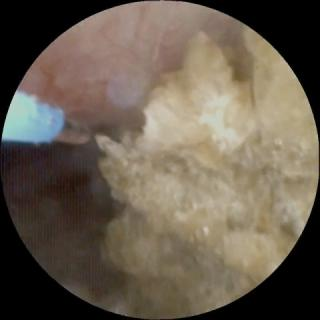fiber: (6, 94, 62, 143)
stone: (95, 29, 314, 316)
